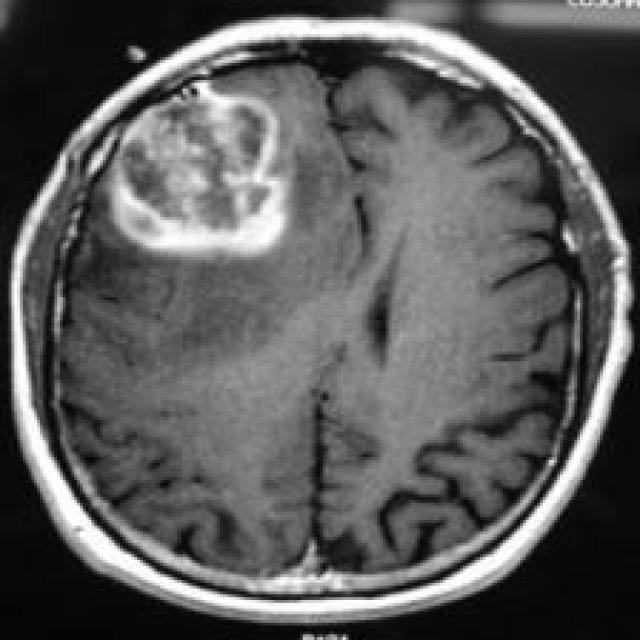Tumor: (95, 68, 292, 266)
